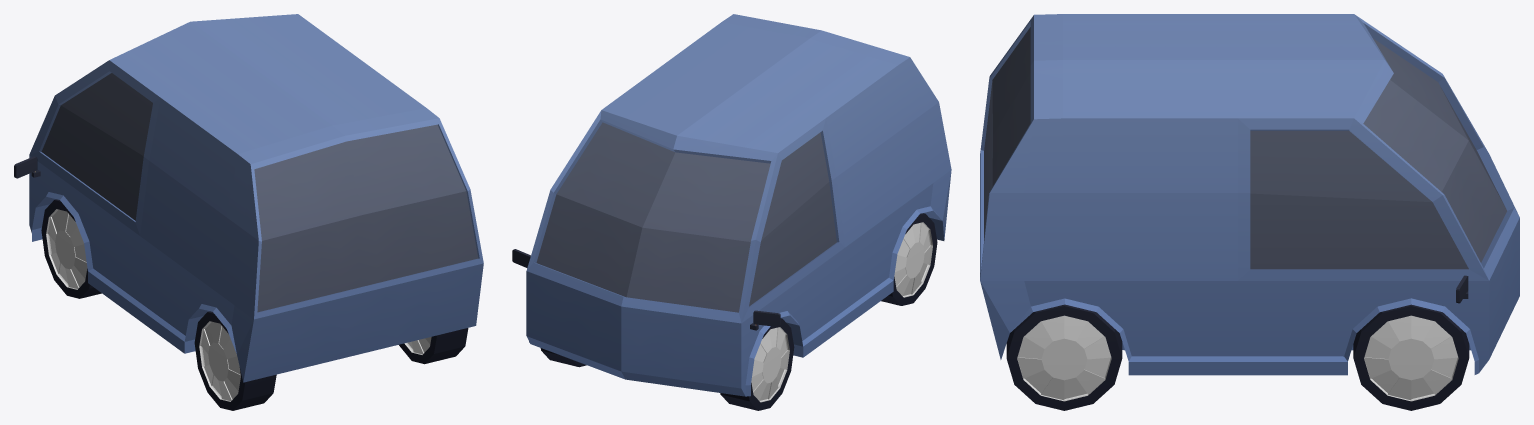
File: Angkot Biru.fbx
3 renders of one model, left to right at view 1: azimuth 30°, elevation 25°; view 2: azimuth 150°, elevation 25°; view 3: azimuth 270°, elevation 25°, orthographic. The views are drawn at different scales.
Parts seen in each view (by area): view 1: Angkot Biru; view 2: Angkot Biru; view 3: Angkot Biru.
Boxes of the visible parts, left/top/right/bottom form: Angkot Biru: left=14, top=14, right=483, bottom=410; Angkot Biru: left=512, top=14, right=951, bottom=410; Angkot Biru: left=980, top=14, right=1519, bottom=410.
Bounding box in the file's own units: 1.59 × 1.36 × 2.3.
